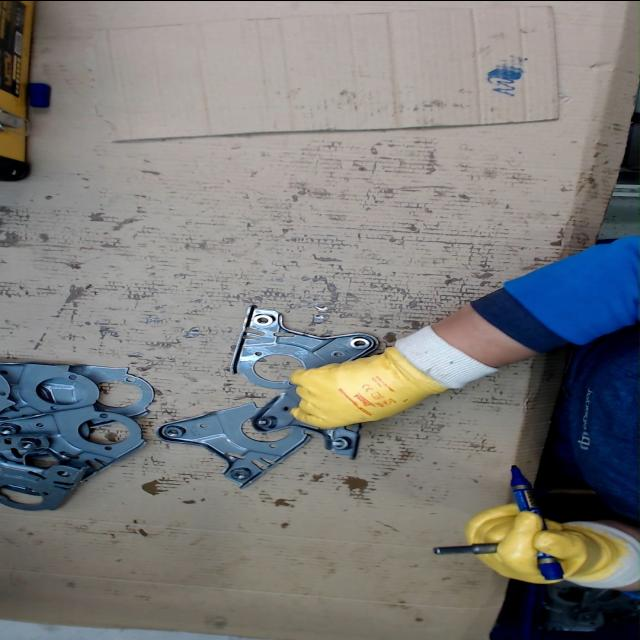hands: (464, 499, 626, 585), (284, 352, 446, 430)
